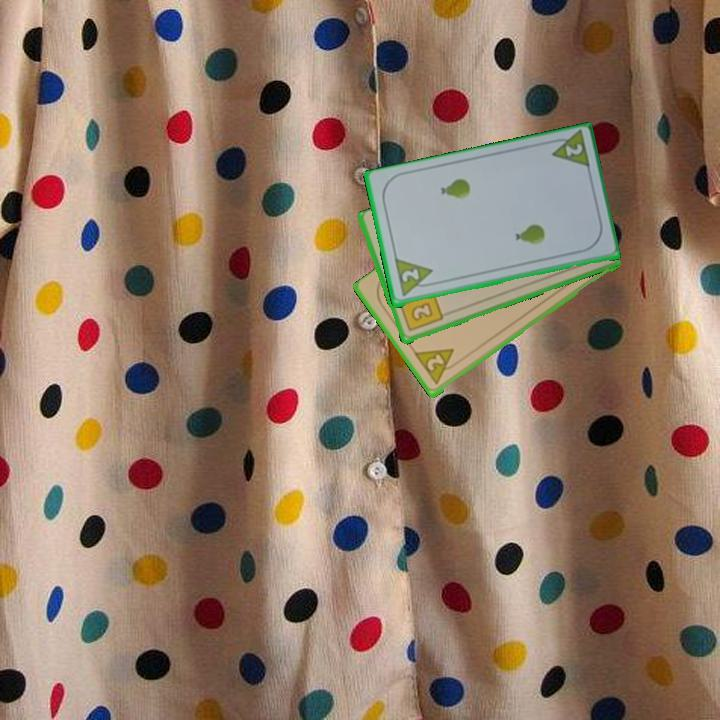2b: (396, 289, 445, 334)
2p: (411, 345, 463, 388), (544, 129, 593, 173), (398, 266, 422, 286)
